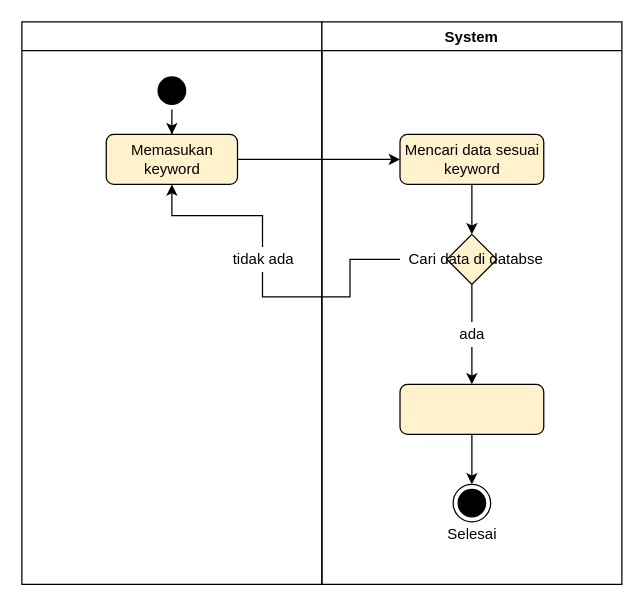
This 644x606 diagram has some shape labels left out. Each missing label, with the box of its shape:
Aktor: (21, 21, 322, 584)
Menampilkan data yang dicari: (399, 383, 544, 434)
